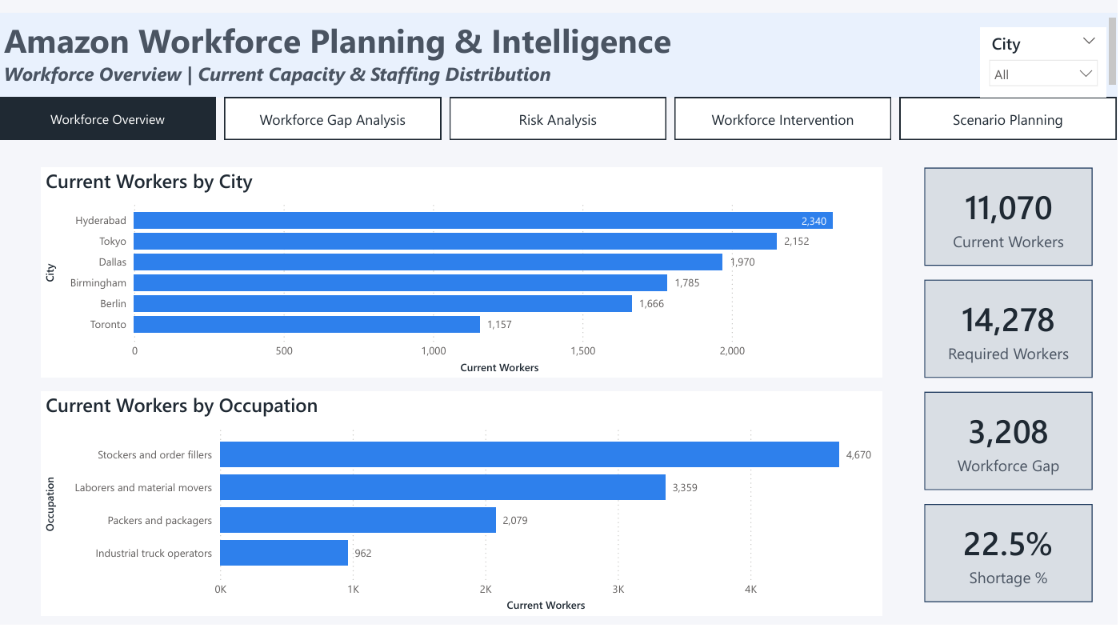

What the dashboard file says about the page in this screenshot:
{"tool":"powerbi","page":{"name":"Workforce Overview","canvas":[1280,720],"ordinal":0},"visuals":[{"type":"textbox","box":[0,16,1280,96],"z":0},{"type":"pageNavigator","box":[0,112,1280,48],"z":1000},{"type":"card","fields":{"Values":["_Measures.Current Workers"]},"box":[1056,192,192,112],"z":2000},{"type":"card","fields":{"Values":["_Measures.Workforce Gap"]},"box":[1056,448,192,112],"z":3000},{"type":"card","fields":{"Values":["_Measures.Required Workers"]},"box":[1056,320,192,112],"z":4000},{"type":"card","fields":{"Values":["_Measures.Shortage %"]},"box":[1056,576,192,112],"z":5000},{"type":"slicer","fields":{"Values":["facilities.city"]},"box":[1120,32,144,80],"z":6000},{"type":"clusteredBarChart","fields":{"Category":["workforce.occupation"],"Y":["_Measures.Current Workers"]},"box":[48,448,960,256],"z":7000},{"type":"clusteredBarChart","fields":{"Category":["facilities.city"],"Y":["_Measures.Current Workers"]},"box":[48,192,960,240],"z":8000}]}

Visuals, with their boxes in screenshot pixels (x1, y1, x2, y2), scaled from the page's 1280x720 canvas onto the 1118x625 screenshot:
textbox: 0,14,1117,97
pageNavigator: 0,97,1117,139
card - _Measures.Current Workers: 922,167,1090,264
card - _Measures.Workforce Gap: 922,389,1090,486
card - _Measures.Required Workers: 922,278,1090,375
card - _Measures.Shortage %: 922,500,1090,597
slicer - facilities.city: 978,28,1104,97
clusteredBarChart - workforce.occupation x _Measures.Current Workers: 42,389,880,611
clusteredBarChart - facilities.city x _Measures.Current Workers: 42,167,880,375
